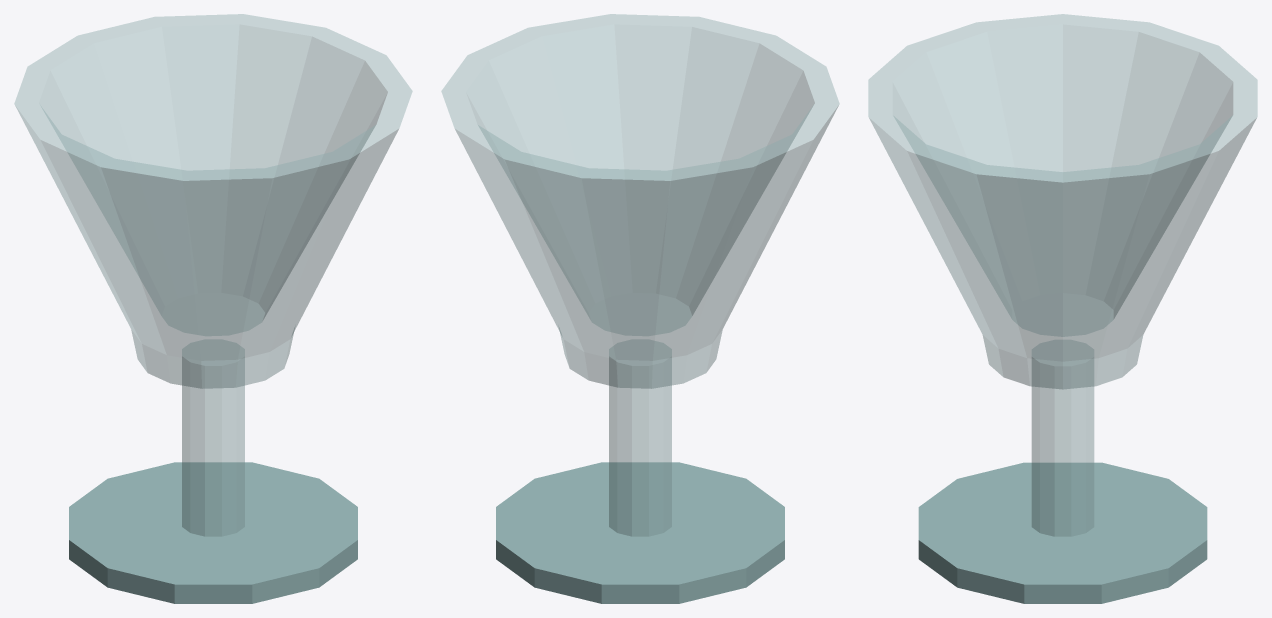
Rendered from wine_glass.glb.
3 renders of one model, left to right at view 1: azimuth 30°, elevation 25°; view 2: azimuth 150°, elevation 25°; view 3: azimuth 270°, elevation 25°, orthographic.
Visible parts, largest first — view 1: block_hollow cup bowl, block_glass foot, block_stem; view 2: block_hollow cup bowl, block_glass foot, block_stem; view 3: block_hollow cup bowl, block_glass foot, block_stem.
Boxes of the visible parts, left/top/right/bottom form: block_hollow cup bowl: left=14, top=14, right=412, bottom=388; block_glass foot: left=69, top=462, right=357, bottom=603; block_stem: left=182, top=339, right=244, bottom=536; block_hollow cup bowl: left=441, top=14, right=839, bottom=388; block_glass foot: left=496, top=462, right=784, bottom=603; block_stem: left=609, top=339, right=671, bottom=536; block_hollow cup bowl: left=868, top=14, right=1257, bottom=389; block_glass foot: left=918, top=462, right=1207, bottom=603; block_stem: left=1031, top=340, right=1094, bottom=536.
Bounding box in the file's own units: 0.1626 × 0.2 × 0.1586.
2 materials, 2 textured.
